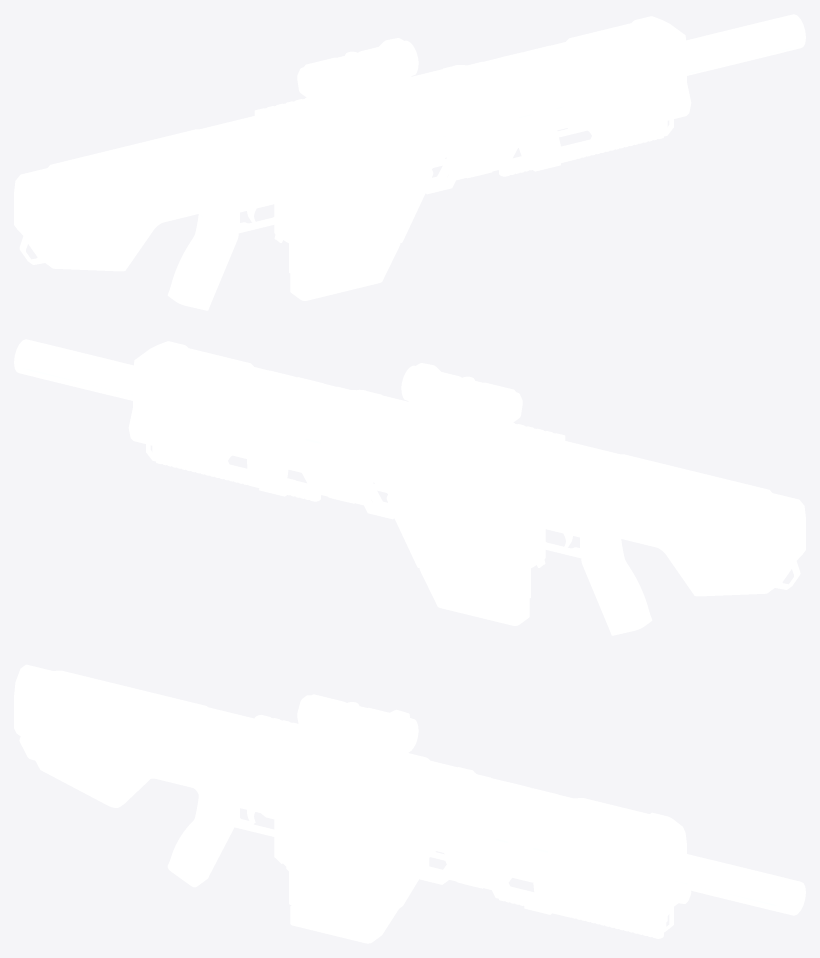
The model's file is Mid_Pierce.glb.
3 views of the same model, one above another, from view 1: azimuth 30°, elevation 25°; view 2: azimuth 150°, elevation 25°; view 3: azimuth 330°, elevation 25° (orthographic).
Parts seen in each view (by area): view 1: Cube.019_low.001_GUN_0; view 2: Cube.019_low.001_GUN_0; view 3: Cube.019_low.001_GUN_0.
Boxes of the visible parts, x1,y1,x2,y2 form: Cube.019_low.001_GUN_0: (14, 14, 805, 310); Cube.019_low.001_GUN_0: (14, 339, 805, 635); Cube.019_low.001_GUN_0: (14, 664, 805, 943).
Bounding box in the file's own units: 3.78 × 1.07 × 0.345.
1 material, 1 textured.
